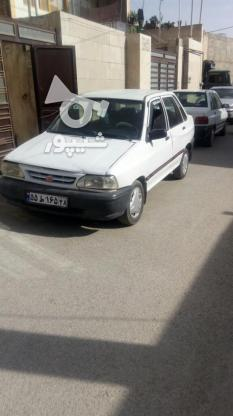car: (28, 193, 67, 209)
